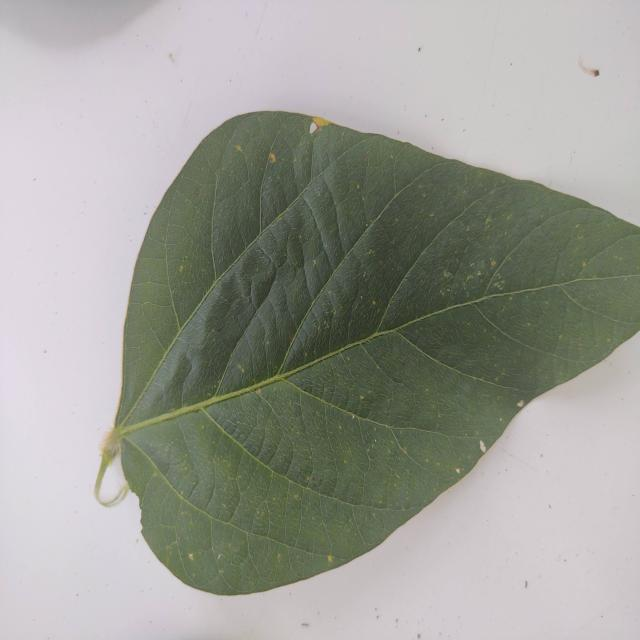Soybean: (93, 110, 640, 640)
downey_mildew: (277, 309, 464, 400), (333, 161, 446, 309), (168, 253, 269, 398), (228, 382, 328, 479), (471, 297, 596, 371), (271, 273, 334, 396), (314, 148, 373, 272), (125, 335, 199, 430), (244, 211, 303, 309), (398, 292, 523, 337), (157, 201, 209, 298), (331, 483, 393, 553), (308, 120, 368, 182), (208, 511, 260, 582), (375, 413, 425, 486), (248, 140, 306, 202), (557, 281, 634, 327), (177, 418, 219, 496), (222, 114, 273, 175), (581, 232, 639, 283), (230, 439, 271, 509), (166, 188, 208, 236), (312, 512, 333, 565), (198, 139, 223, 180), (146, 235, 166, 249), (142, 279, 170, 288)
